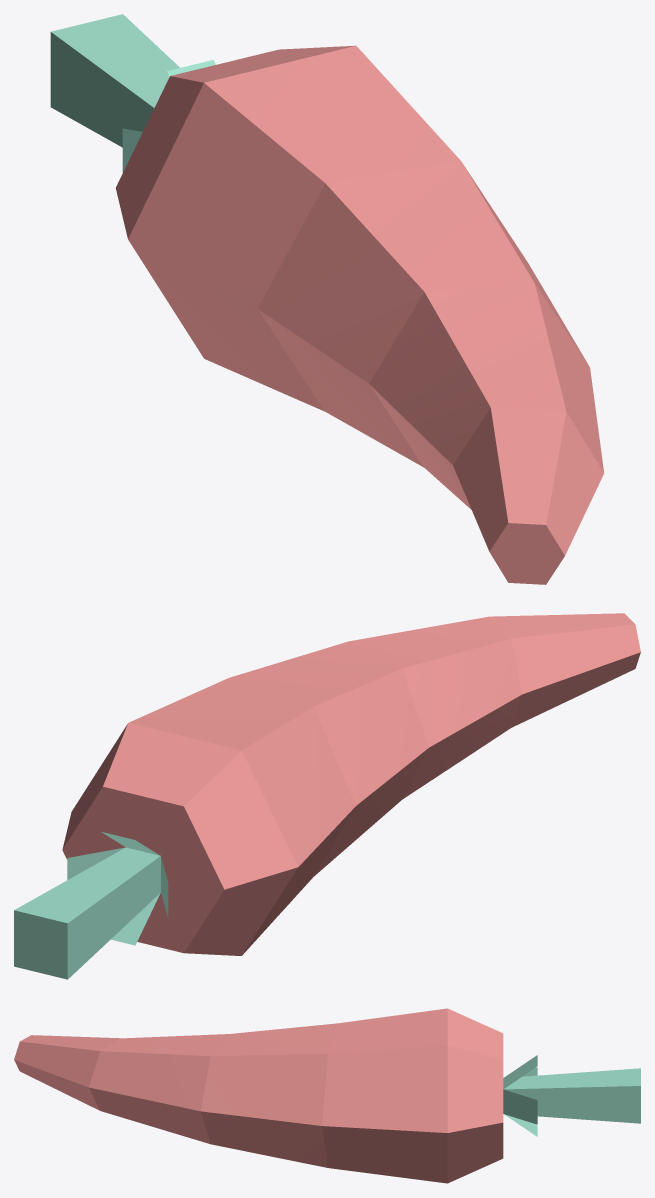
File: pepper.glb
3 renders of one model, top to bottom at view 1: azimuth 30°, elevation 25°; view 2: azimuth 150°, elevation 25°; view 3: azimuth 270°, elevation 25°, orthographic. The views are drawn at different scales.
Parts seen in each view (by area): view 1: pepper; view 2: pepper; view 3: pepper.
Boxes of the visible parts, x1,y1,x2,y2 form: pepper: (50, 14, 604, 584); pepper: (14, 613, 640, 979); pepper: (14, 1008, 640, 1183).
Size of the model in its own units: 0.1039 by 0.0775 by 0.3191.
